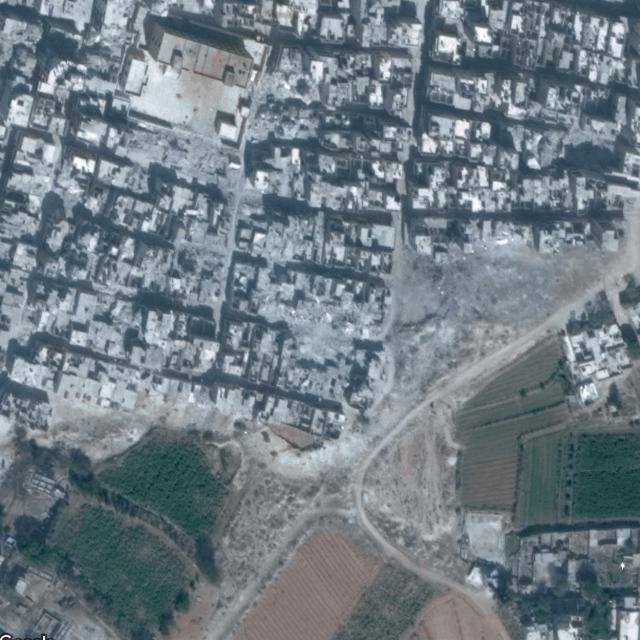damaged_building: (125, 124, 241, 304), (249, 218, 382, 366), (249, 67, 327, 144)
